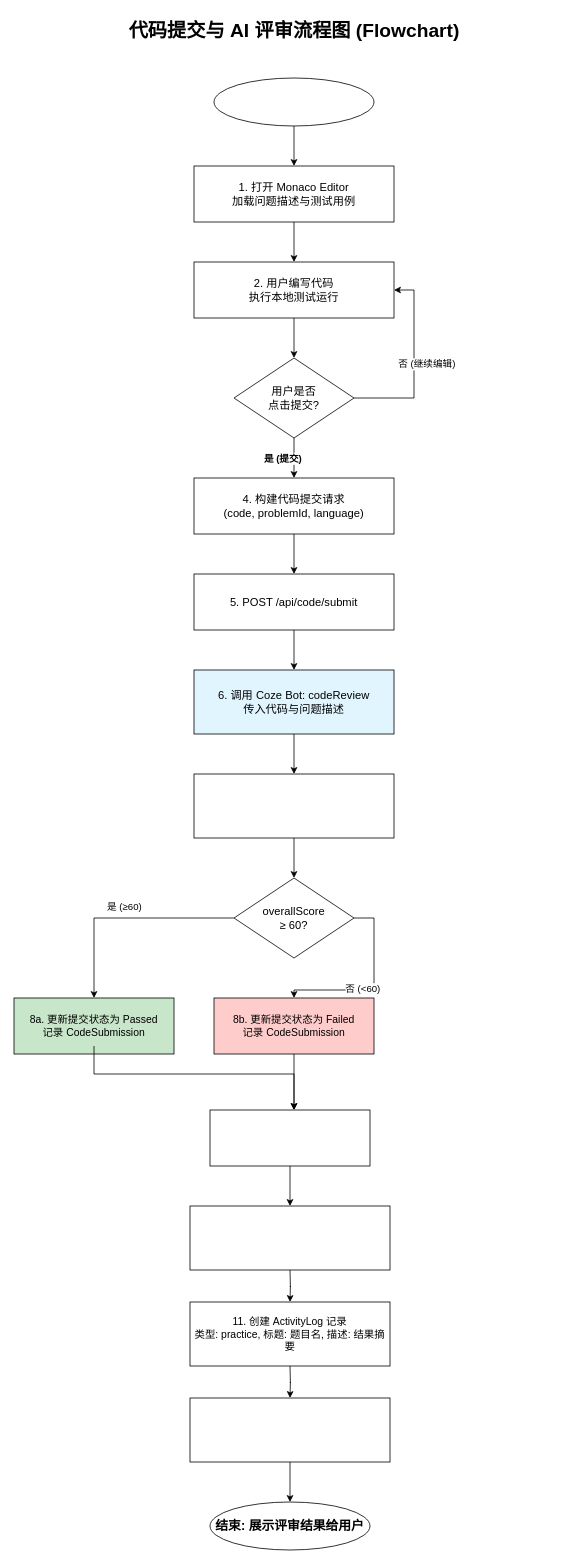
The diagram is 588 pixels wide and 1564 high, and some of its shapes have lost their labels. The shapes that lost their labels are listed below. From the top down, each one's box as (x1, y1, x2, y2) in pixels, then its label:
(213, 77, 374, 126): 开始: 用户打开题目
(193, 773, 394, 838): 7. 解析 Coze JSON 响应 提取 overallScore, feedback, issues
(209, 1109, 370, 1166): 9. 更新能力雷达 (if capabilityScores provided)
(189, 1205, 390, 1270): 10. 调用 checkAndAwardAchievements() 检测新解锁成就
(189, 1397, 390, 1462): 12. 返回 API 响应 { submission, review, newAchievements }
